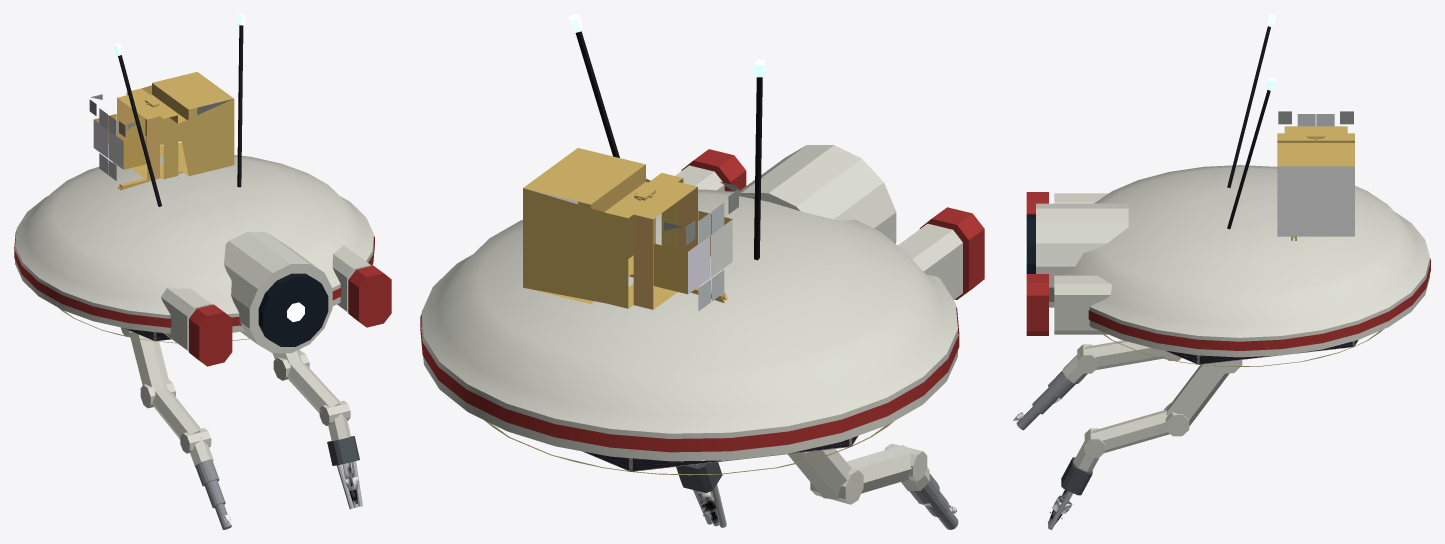
Rendered from fleet-drone-repair-far.glb.
3 renders of one model, left to right at view 1: azimuth 30°, elevation 25°; view 2: azimuth 150°, elevation 25°; view 3: azimuth 270°, elevation 25°, orthographic. The views are drawn at different scales.
Visible parts, largest first — view 1: drone; view 2: drone; view 3: drone.
Boxes of the visible parts, x1,y1,x2,y2 form: drone: [14, 14, 391, 529]; drone: [420, 14, 984, 529]; drone: [1013, 14, 1430, 529].
Size of the model in its own units: 1.03 by 1.32 by 1.13.
1 material, 1 textured.
